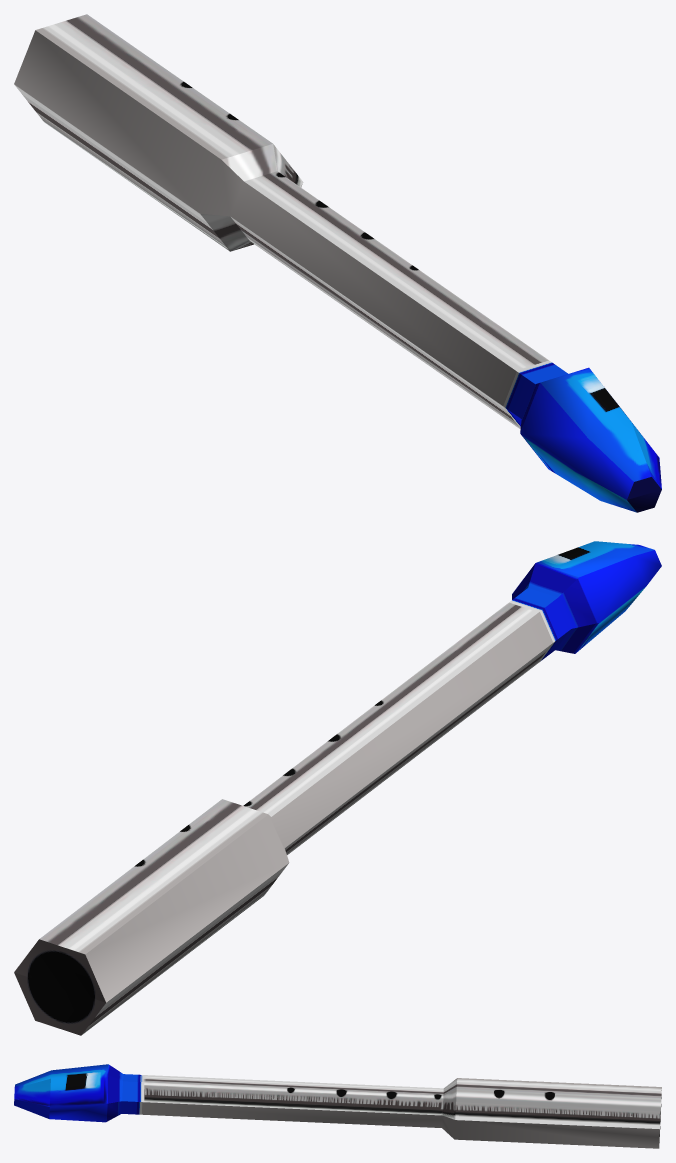
Rendered from Flauta1_000008.obj.
3 views of the same model, one above another, from view 1: azimuth 30°, elevation 25°; view 2: azimuth 150°, elevation 25°; view 3: azimuth 270°, elevation 25° (orthographic). The views are drawn at different scales.
Parts seen in each view (by area): view 1: pCylinder3; view 2: pCylinder3; view 3: pCylinder3.
Part boxes in pixels (x1=…): pCylinder3: x1=14, y1=14, x2=661, y2=512; pCylinder3: x1=14, y1=541, x2=661, y2=1035; pCylinder3: x1=14, y1=1064, x2=661, y2=1148.
Size of the model in its own units: 0.628 by 0.6591 by 5.61.
